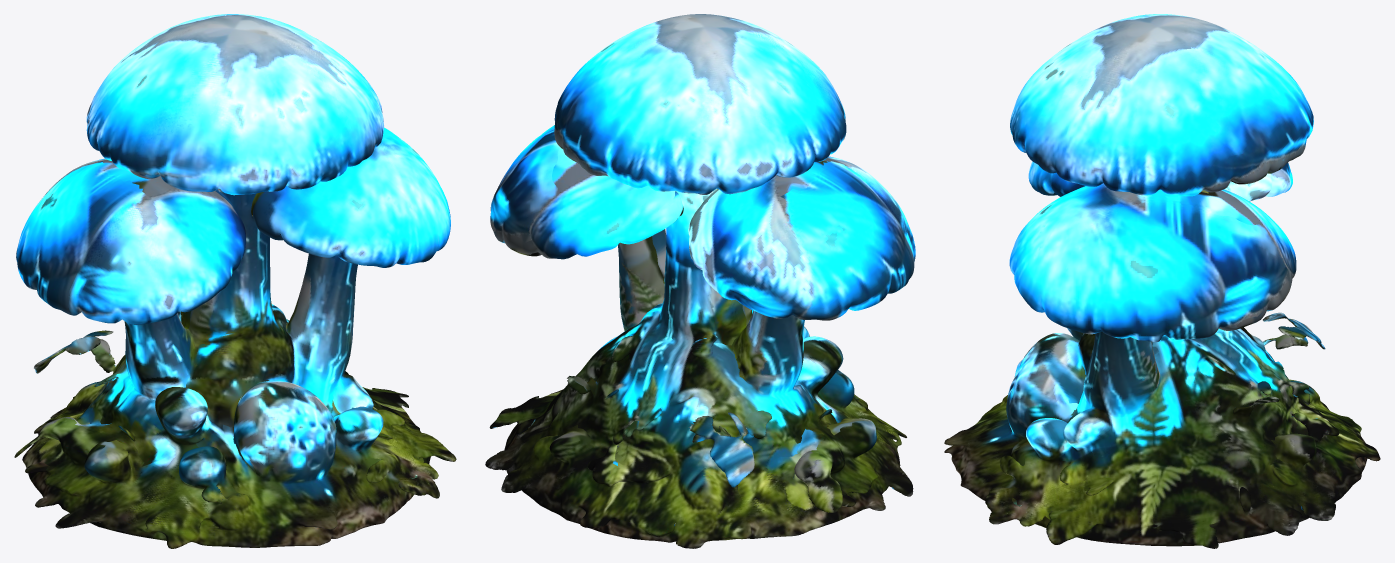
The model's file is mushroom_cluster.glb.
3 renders of one model, left to right at view 1: azimuth 30°, elevation 25°; view 2: azimuth 150°, elevation 25°; view 3: azimuth 270°, elevation 25°, orthographic.
Visible parts, largest first — view 1: geometry_0; view 2: geometry_0; view 3: geometry_0.
Part boxes in pixels (<box>): geometry_0: <box>14,14,456,548</box>; geometry_0: <box>485,14,915,548</box>; geometry_0: <box>944,14,1380,548</box>.
Bounding box in the file's own units: 1.89 × 2 × 1.8.
1 material, 1 textured.
